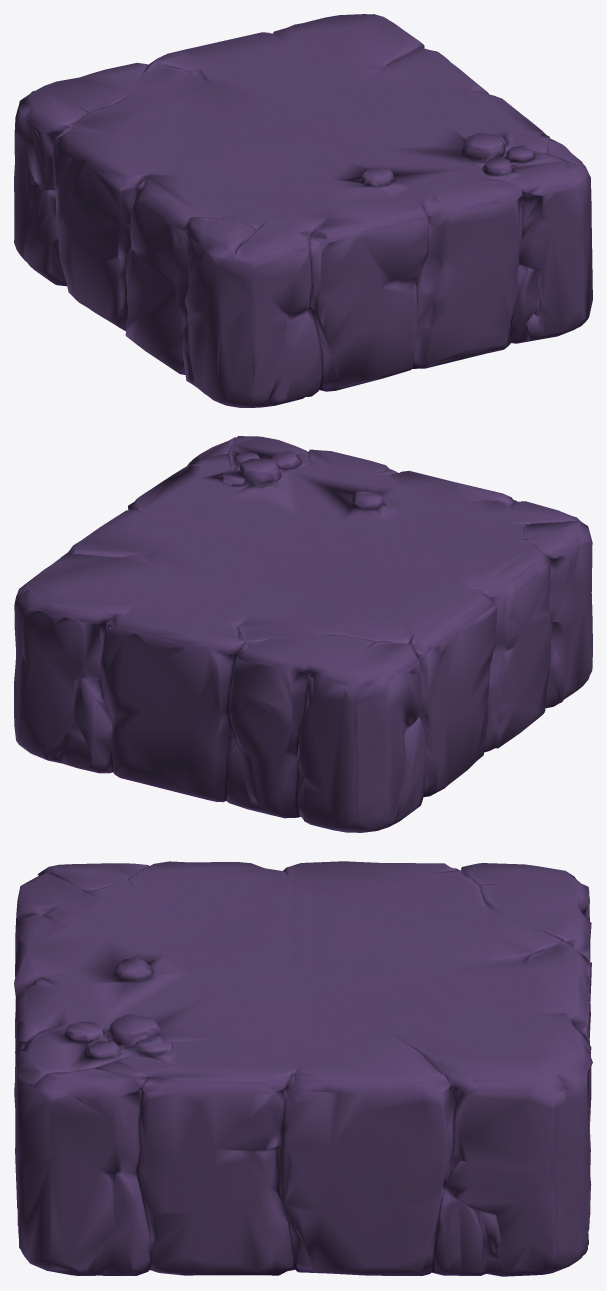
File: bloque_de_piedra_purpura.glb
3 views of the same model, one above another, from view 1: azimuth 30°, elevation 25°; view 2: azimuth 150°, elevation 25°; view 3: azimuth 270°, elevation 25° (orthographic). The views are drawn at different scales.
Visible parts, largest first — view 1: bloque_de_piedra_purpura; view 2: bloque_de_piedra_purpura; view 3: bloque_de_piedra_purpura.
Part boxes in pixels (box(x1,y1,x2,y2)): bloque_de_piedra_purpura: box(14, 14, 592, 407); bloque_de_piedra_purpura: box(14, 436, 592, 832); bloque_de_piedra_purpura: box(14, 861, 592, 1276).
Size of what is drawn, in the model's own units: 2.28 by 1 by 2.44.
1 material, 1 textured.
